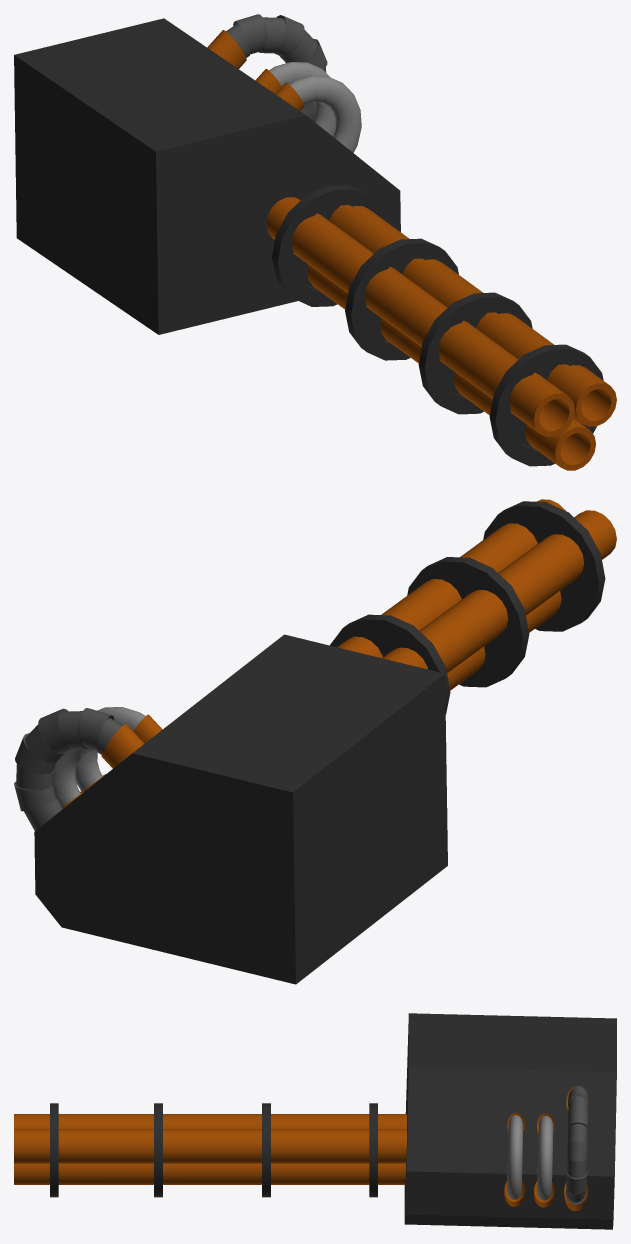
File: rightGUN.fbx
3 renders of one model, top to bottom at view 1: azimuth 30°, elevation 25°; view 2: azimuth 150°, elevation 25°; view 3: azimuth 270°, elevation 25°, orthographic. The views are drawn at different scales.
Visible parts, largest first — view 1: polySurface199, pCylinder66; view 2: polySurface199, pCylinder66; view 3: polySurface199, pCylinder66.
Boxes of the visible parts, left/top/right/bottom form: polySurface199: left=14, top=14, right=400, bottom=334; pCylinder66: left=266, top=185, right=616, bottom=470; polySurface199: left=14, top=634, right=447, bottom=984; pCylinder66: left=330, top=499, right=616, bottom=714; polySurface199: left=404, top=1013, right=616, bottom=1229; pCylinder66: left=14, top=1103, right=406, bottom=1197.
Bounding box in the file's own units: 1.52 × 0.954 × 3.77.
